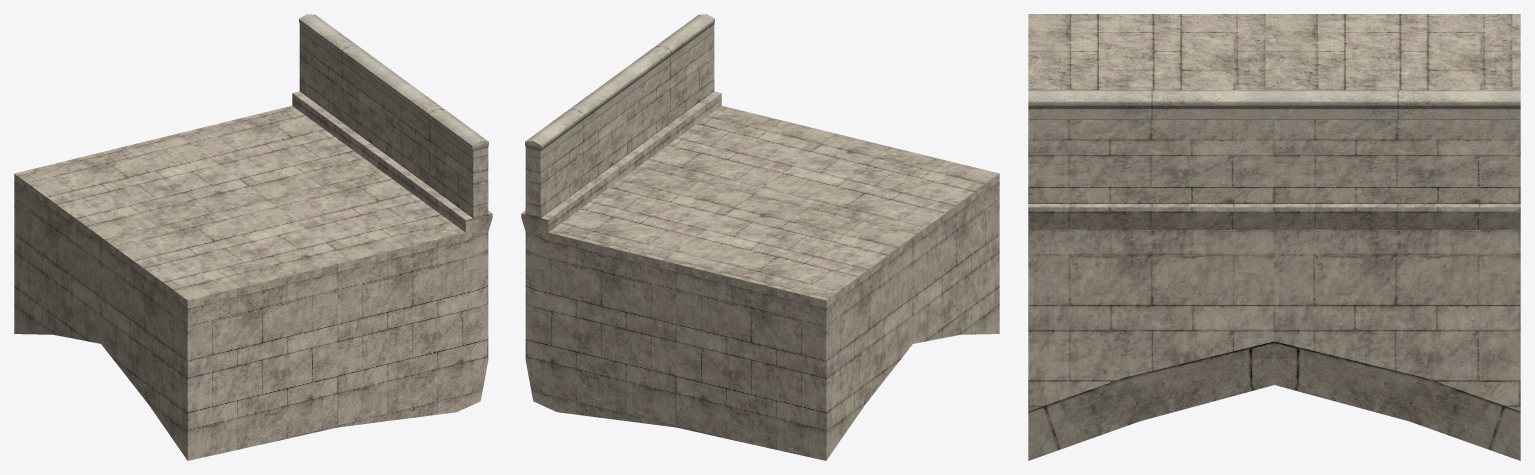
File: DoubleBracingDouble.dae
3 renders of one model, left to right at view 1: azimuth 30°, elevation 25°; view 2: azimuth 150°, elevation 25°; view 3: azimuth 270°, elevation 25°, orthographic. The views are drawn at different scales.
Visible parts, largest first — view 1: DoubleBracingDouble; view 2: DoubleBracingDouble; view 3: DoubleBracingDouble.
Part boxes in pixels (x1,y1,x2,y2): DoubleBracingDouble: (14, 14, 492, 460); DoubleBracingDouble: (521, 14, 999, 460); DoubleBracingDouble: (1028, 14, 1520, 460).
Bounding box in the file's own units: 4.06 × 3.38 × 4.
Materials: 2 (2 with a texture image).
